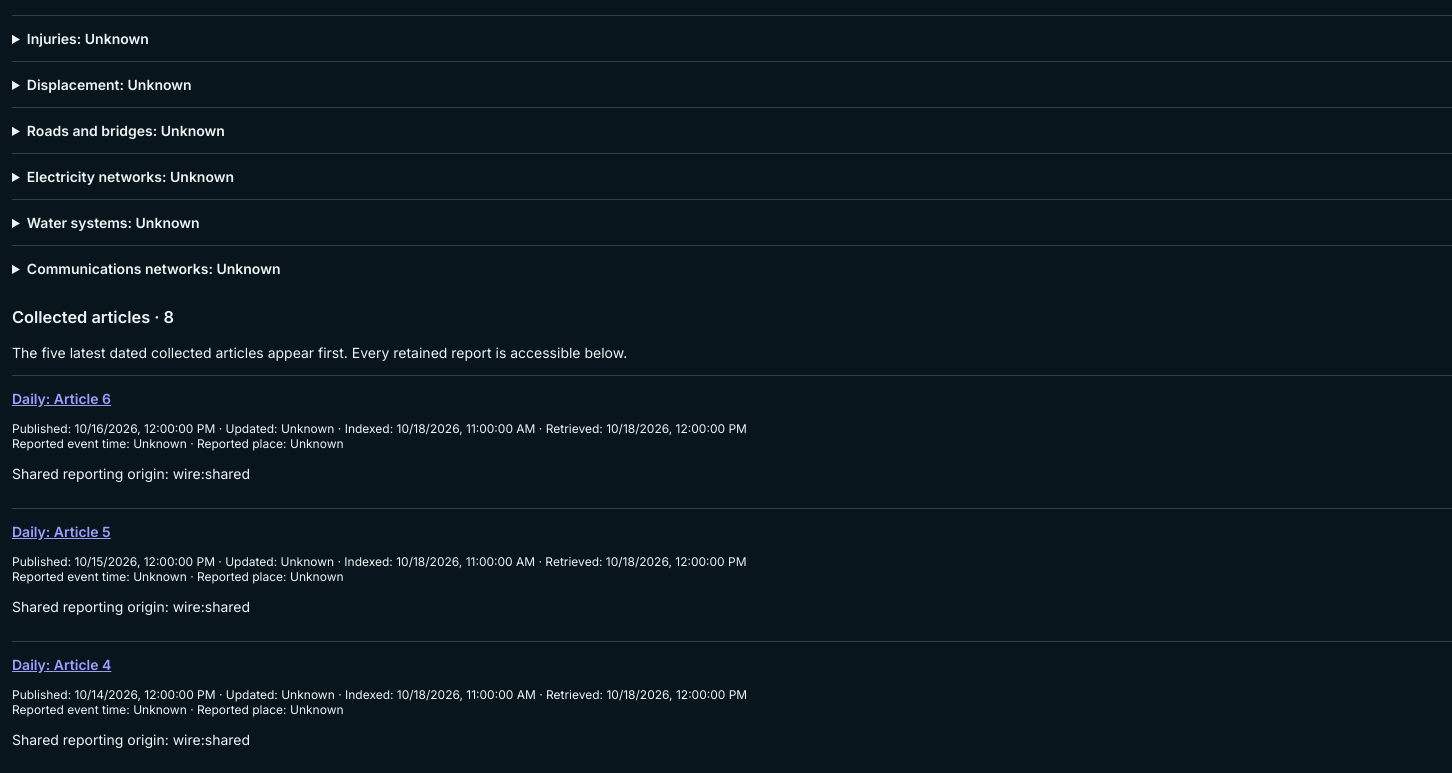
Test case: shows five latest publications and pages every remaining report, separating unknown dates
This screenshot has width=1452, height=773.
(page scrolled)
expect the link "Daily: Article 6" is shown: met, box x1=12 y1=390 x2=111 y2=406
expect the text "Article 1" is not shown: met
Press Enter
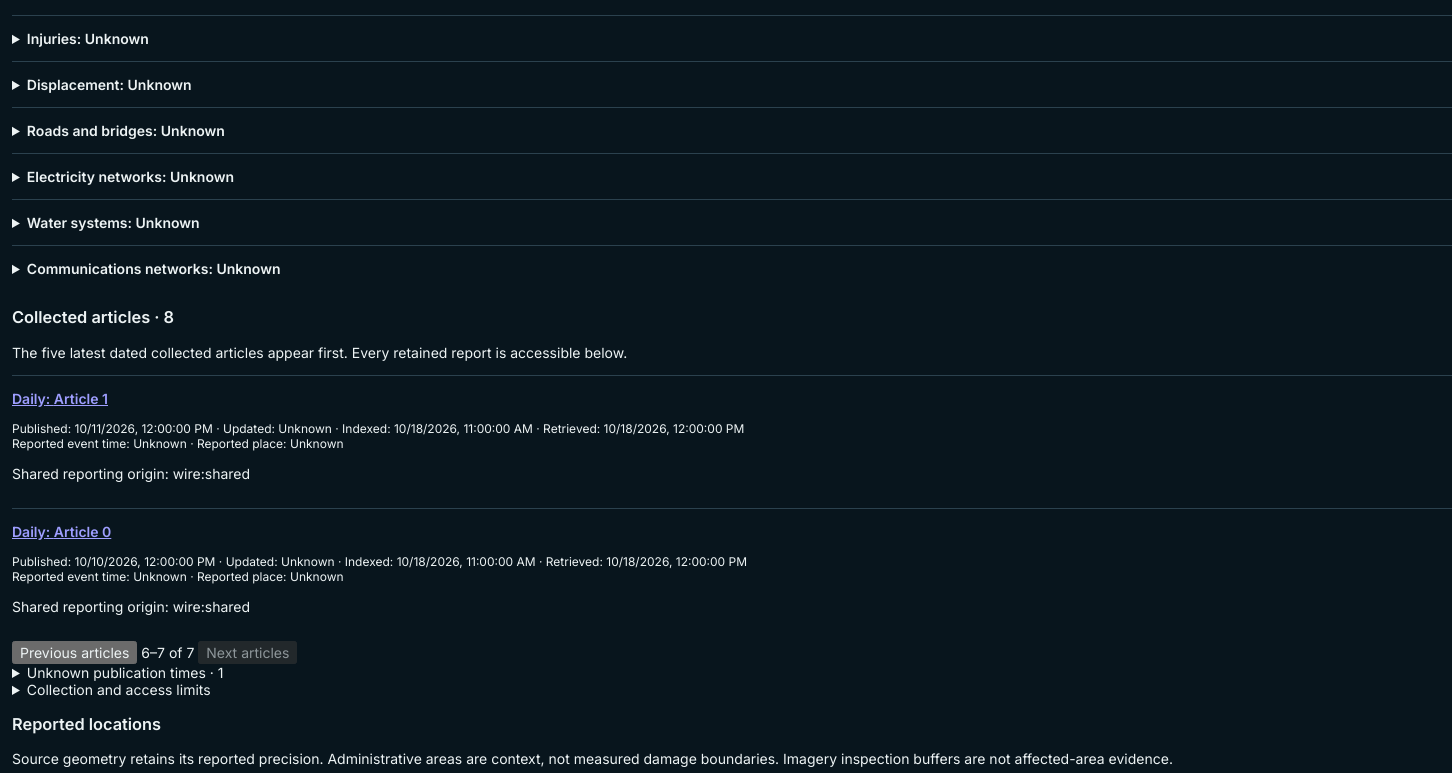
expect the number of links is 2: met, box x1=12 y1=390 x2=108 y2=406; x1=12 y1=522 x2=111 y2=540
Click the heading "Unknown publication times · 1" at [125, 672], box x1=27 y1=664 x2=223 y2=680
(page scrolled)
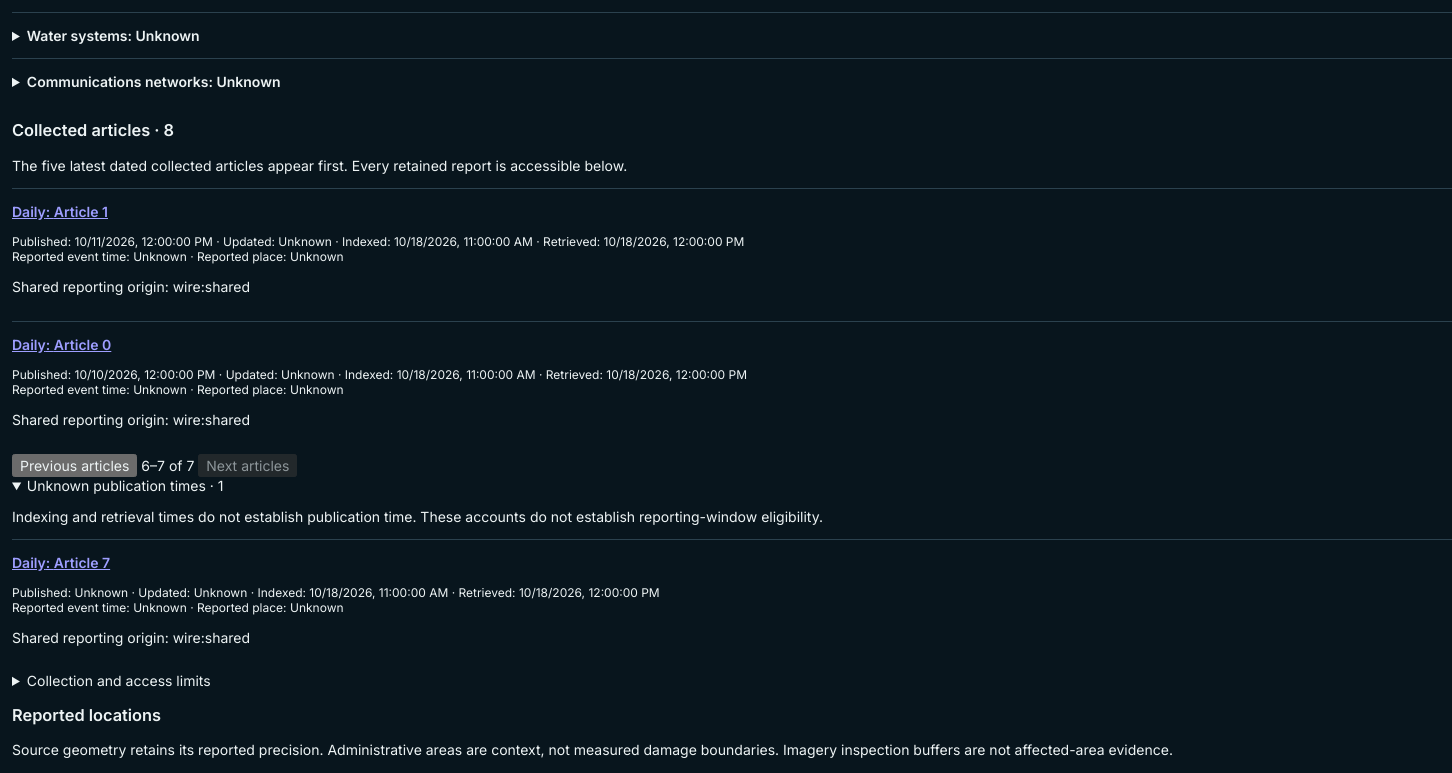
expect the link "Daily: Article 7" is shown: met, box x1=12 y1=554 x2=110 y2=570
Click the heading "Collection and access limits" at [119, 680], box x1=27 y1=672 x2=211 y2=688
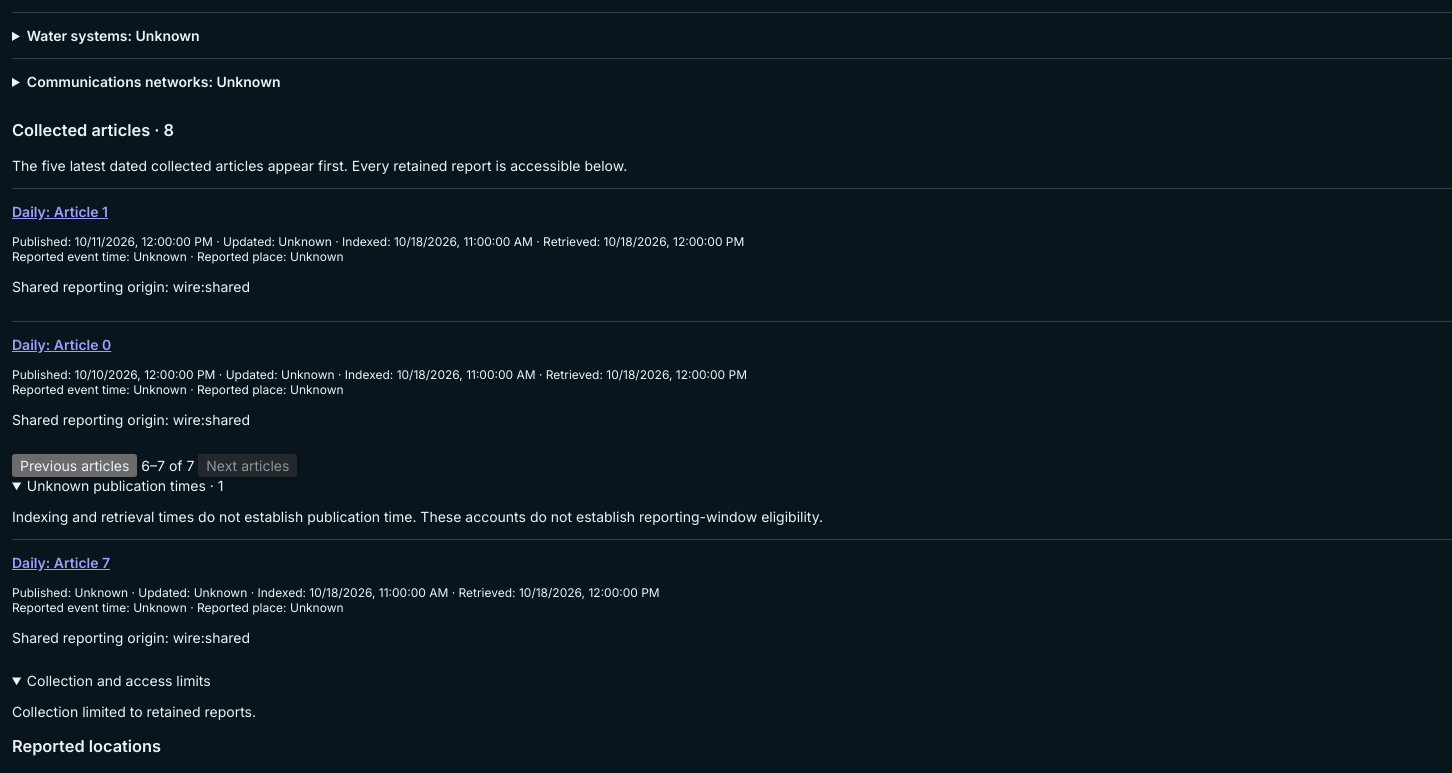
expect the text "Collection limited to retained reports." is shown: met, box x1=12 y1=702 x2=256 y2=720
